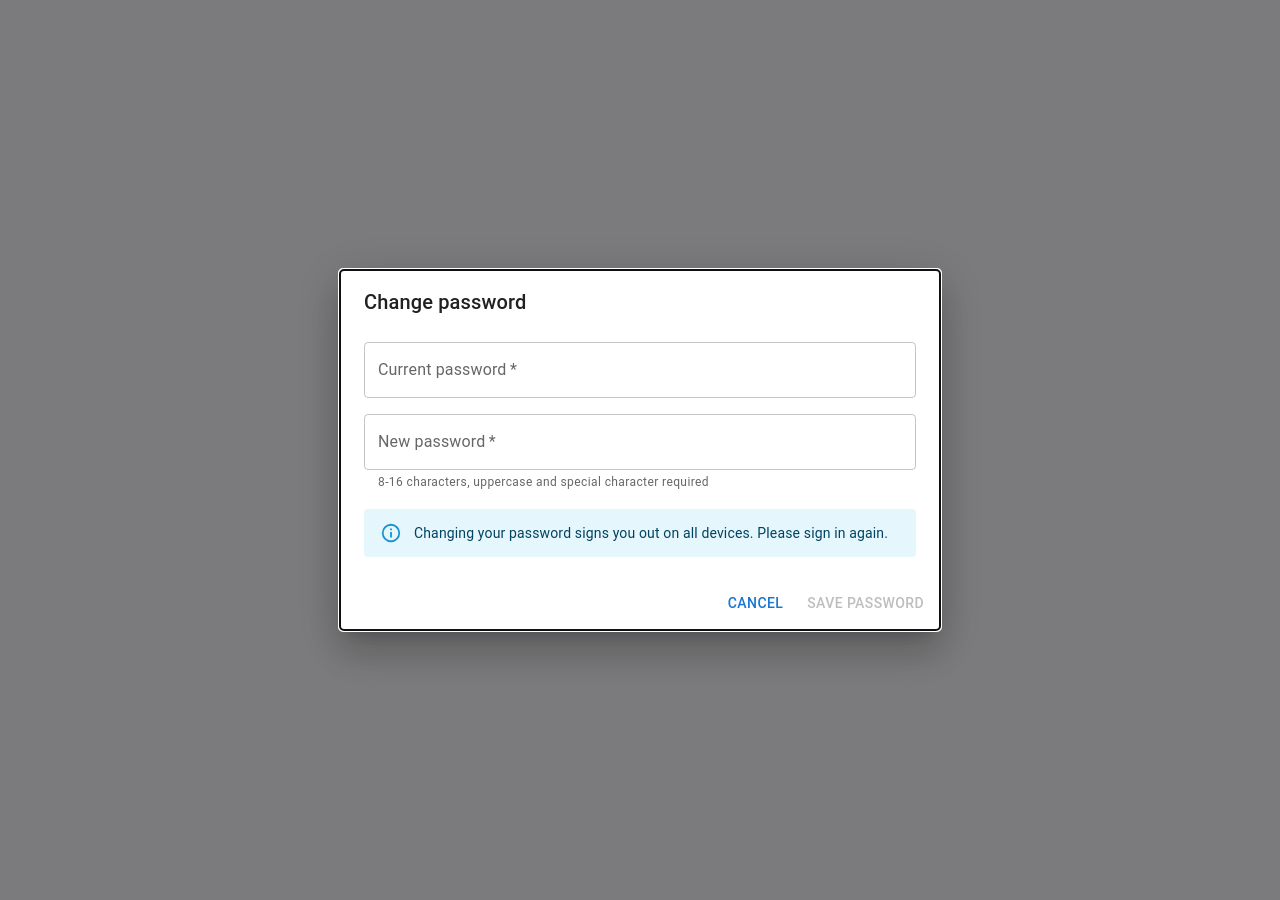
authentication UI › password change shows incorrect-current-password failure
Type "wrong" into the password field labelled "Current password *".
click(640, 370); type("wrong")  # box [364, 342, 916, 398]
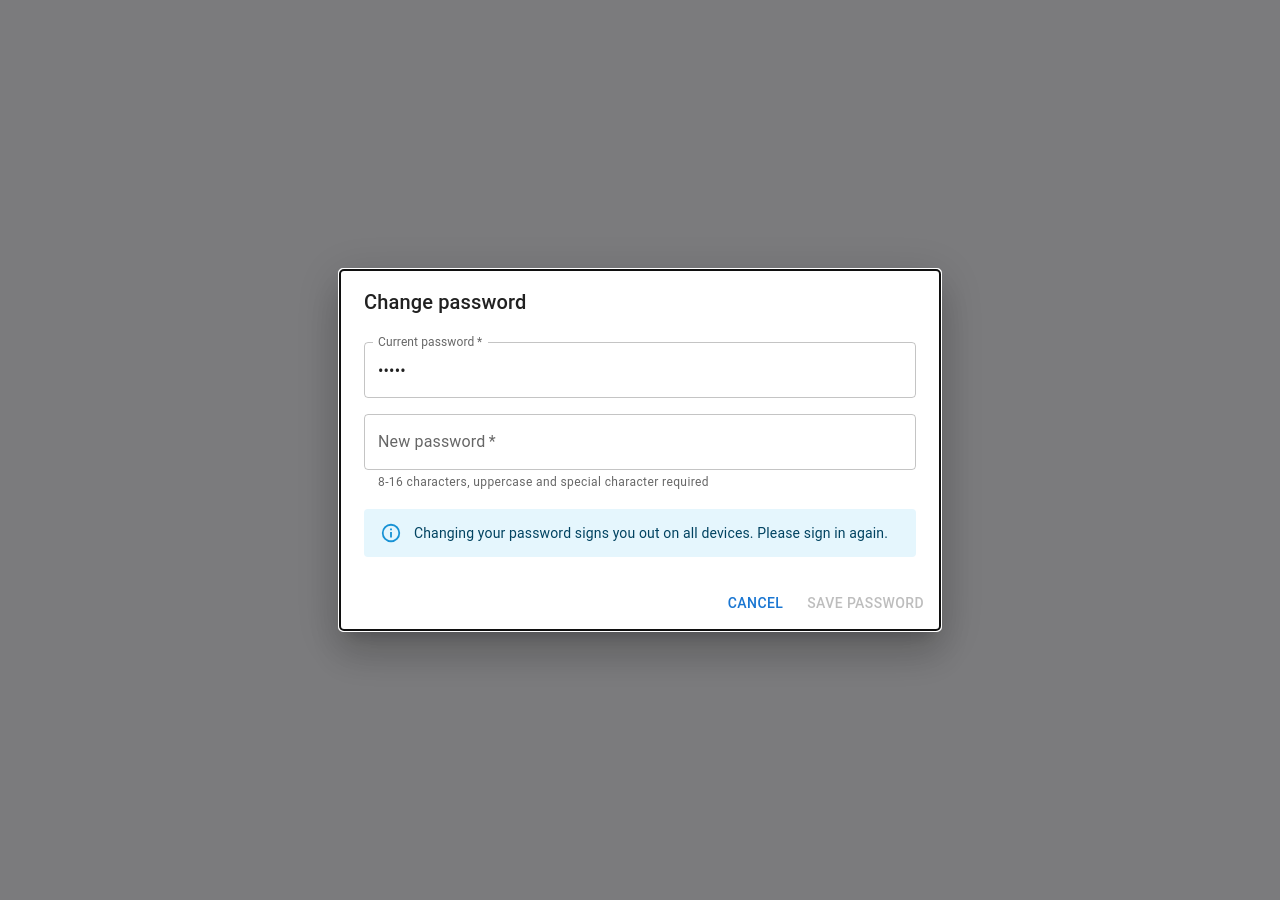
Type "Updated!123" into the password field labelled "New password *".
click(640, 442); type("Updated!123")  # box [364, 414, 916, 470]
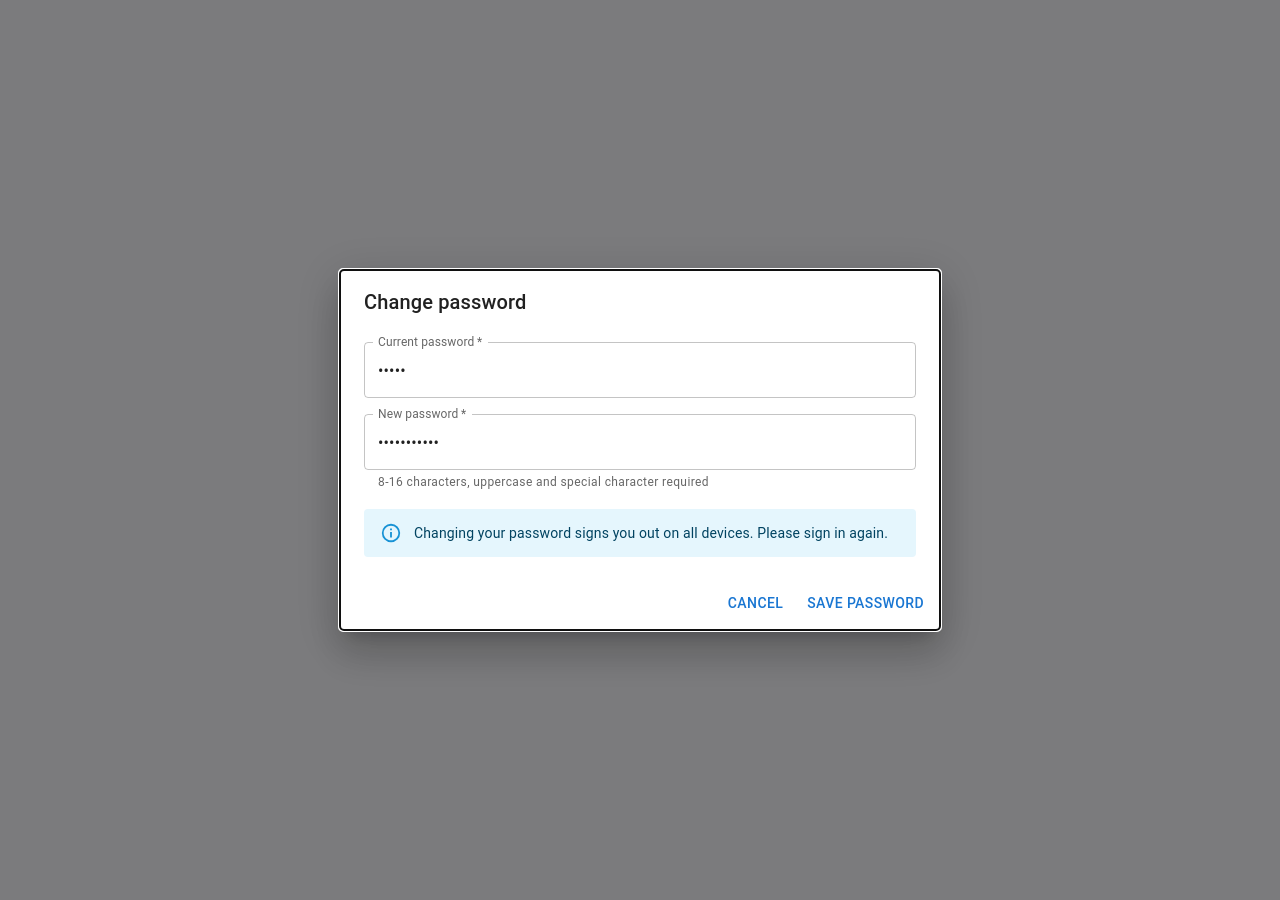
Click the button "Save password".
click(866, 603)  # box [799, 585, 932, 622]
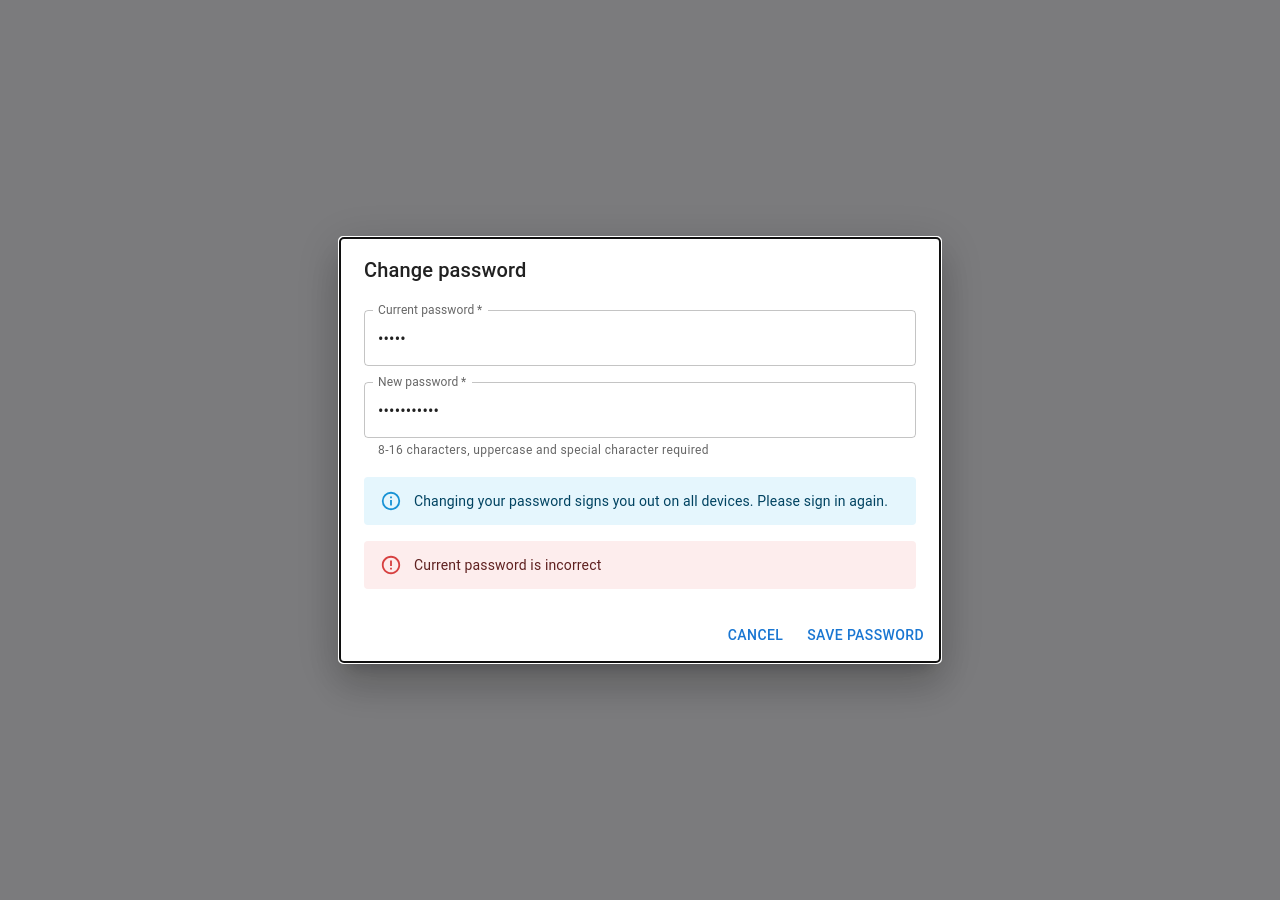
Result: the text "Current password is incorrect" is shown at [414, 557, 601, 573]
